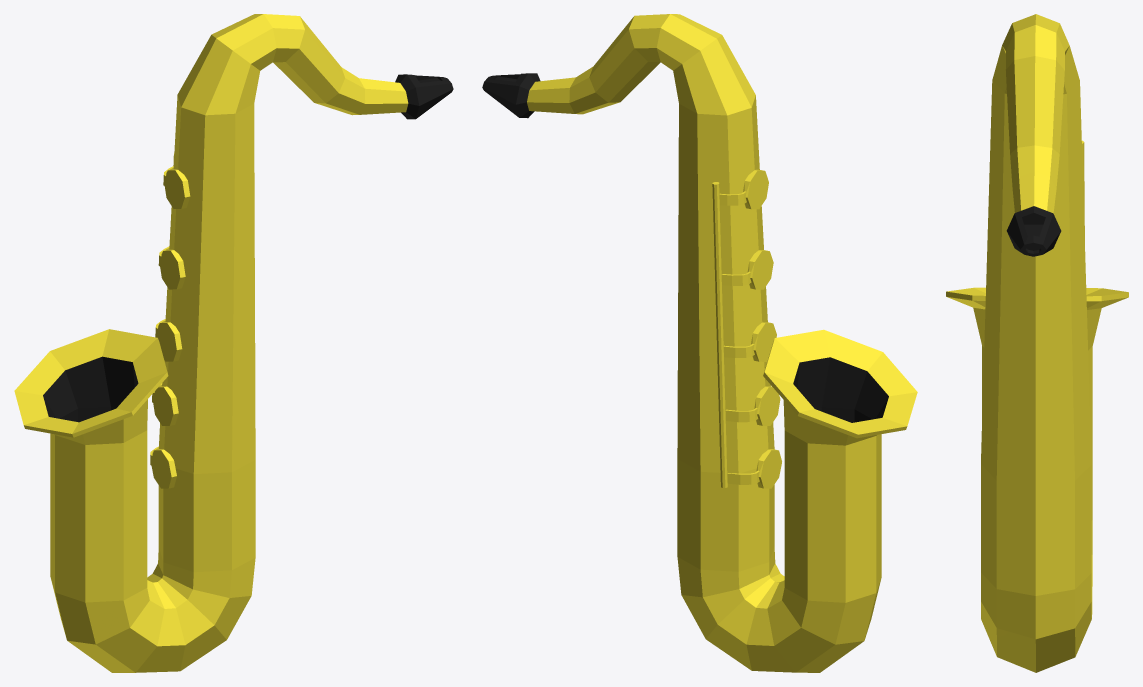
The model's file is Saxophone.glb.
3 views of the same model, side by side, from view 1: azimuth 30°, elevation 25°; view 2: azimuth 150°, elevation 25°; view 3: azimuth 270°, elevation 25° (orthographic). The views are drawn at different scales.
Visible parts, largest first — view 1: Sax; view 2: Sax; view 3: Sax.
Boxes of the visible parts, bbox=[...] form: Sax: bbox=[14, 14, 453, 672]; Sax: bbox=[482, 14, 917, 672]; Sax: bbox=[946, 14, 1128, 672].
Bounding box in the file's own units: 1.12 × 1.6 × 0.3797.
